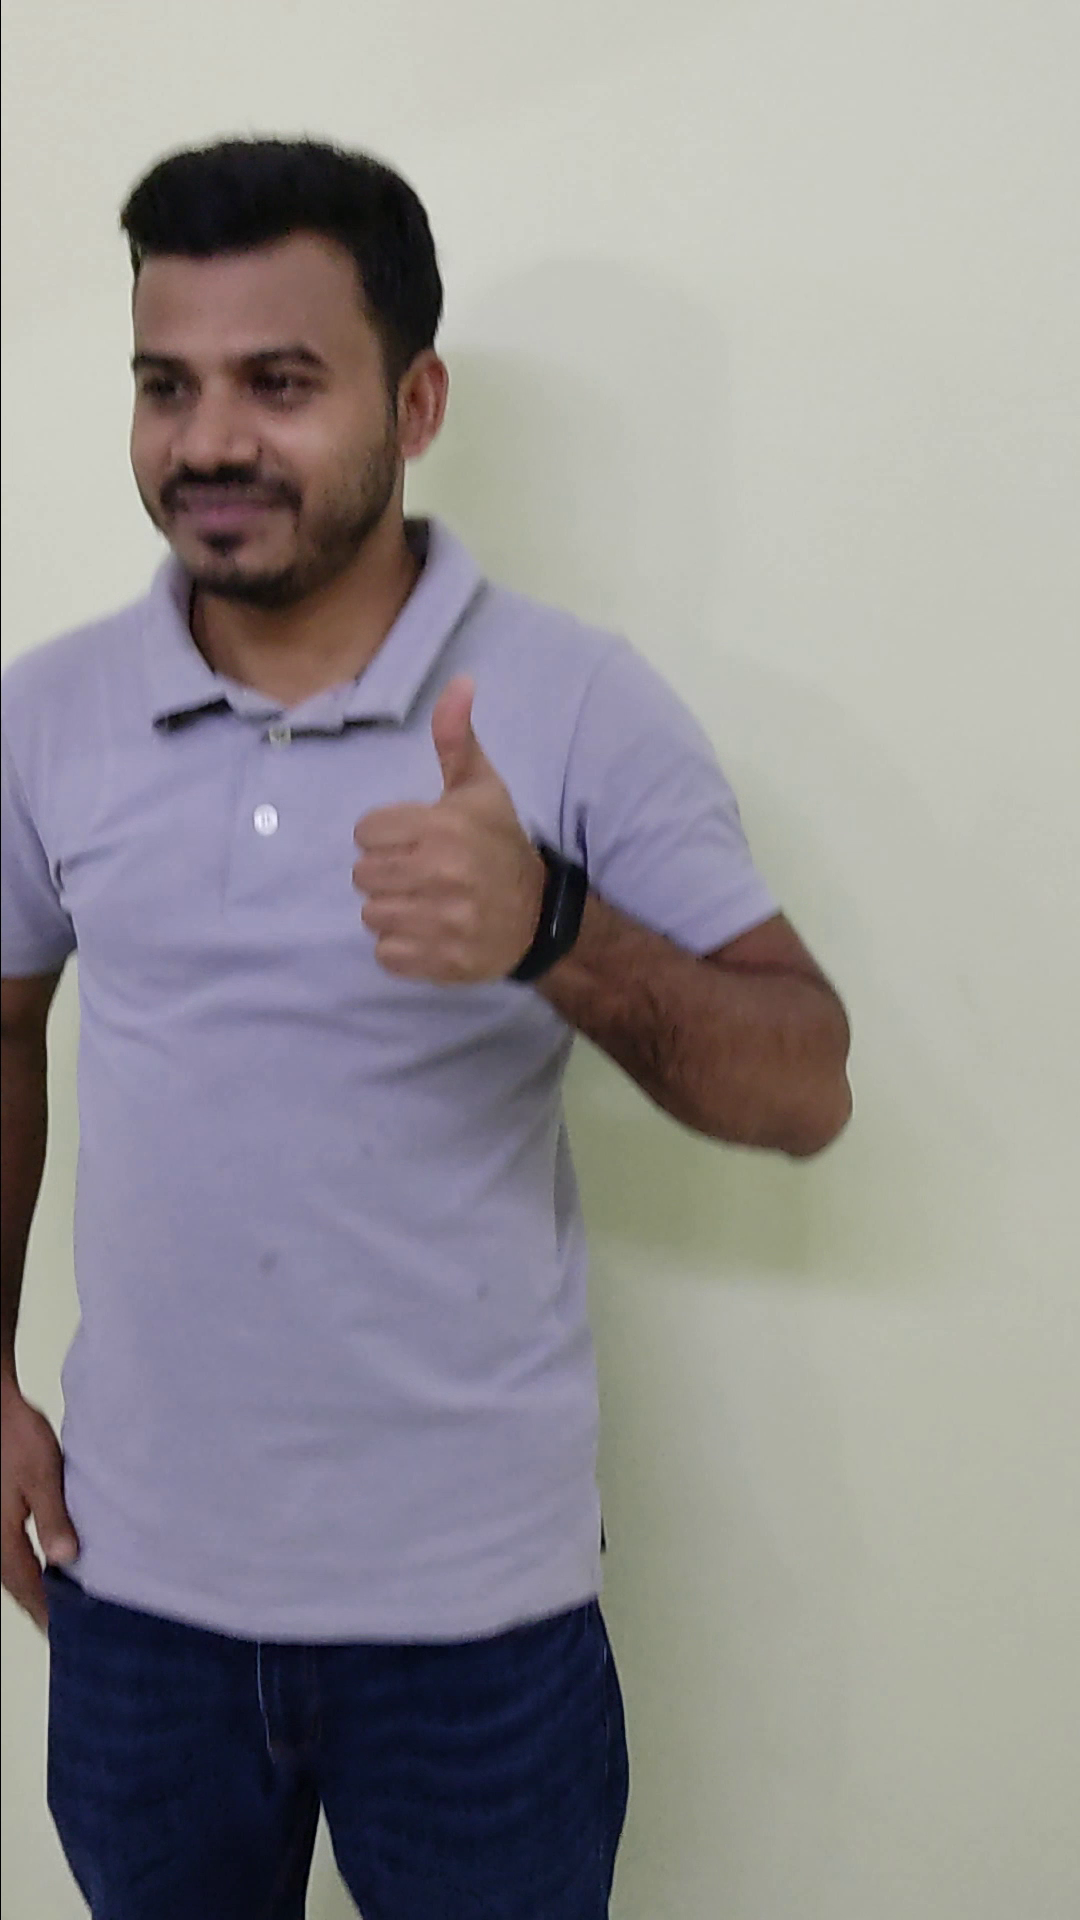Like: (343, 665, 583, 1002)
None: (4, 1369, 95, 1646)
